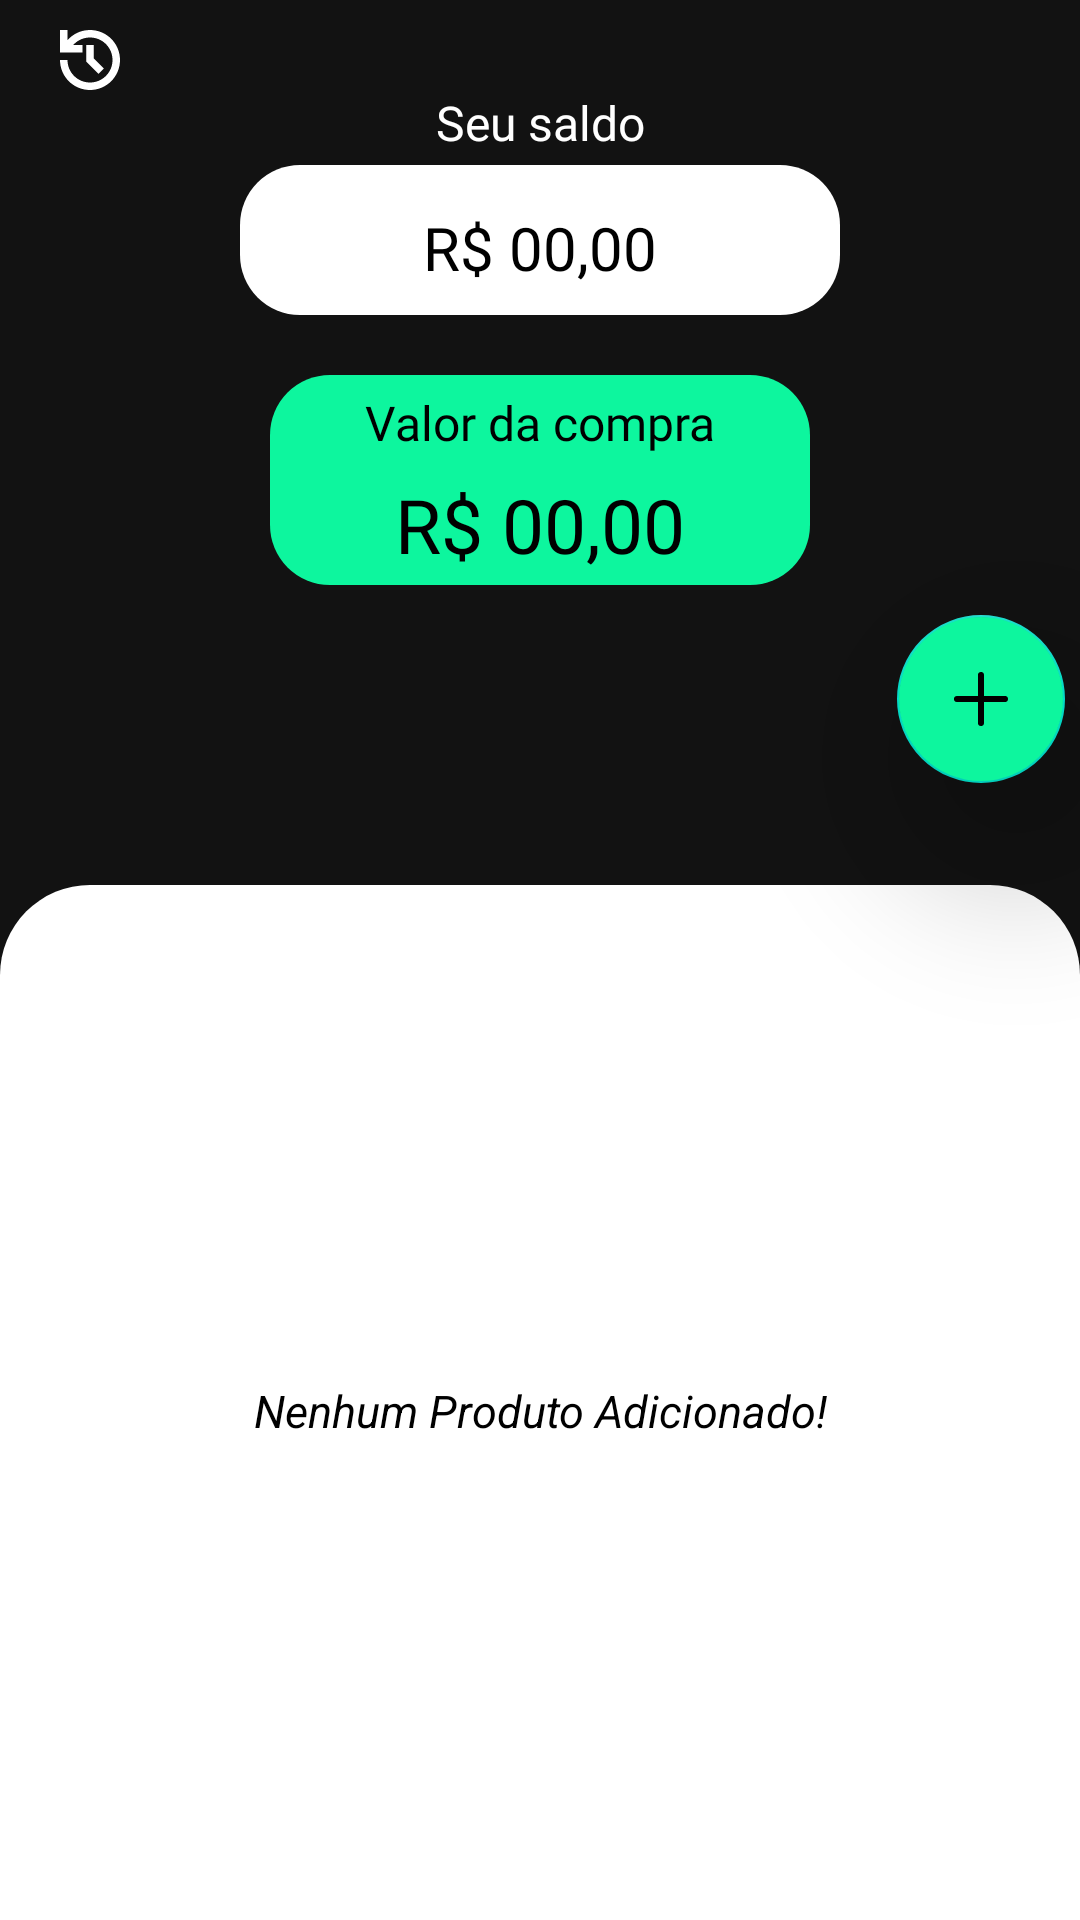

Named icons in this screenshot (1080px x 1920px) and their centers, (x,y):
historic: (90,60)
plus: (981,699)
